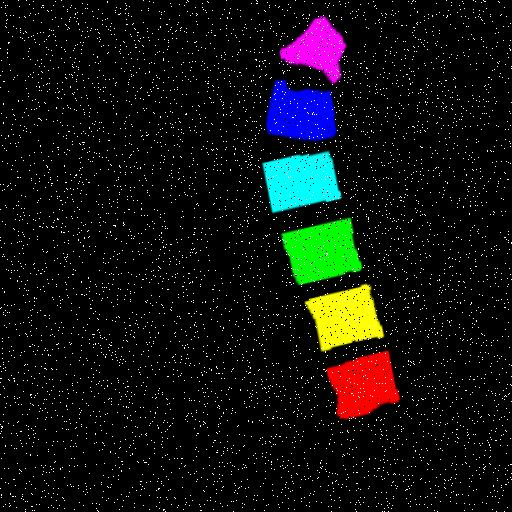L1: (326, 351, 398, 419)
L2: (305, 285, 384, 352)
L3: (281, 218, 360, 285)
L4: (262, 151, 339, 212)
L5: (265, 79, 335, 139)
S1: (278, 16, 344, 82)
